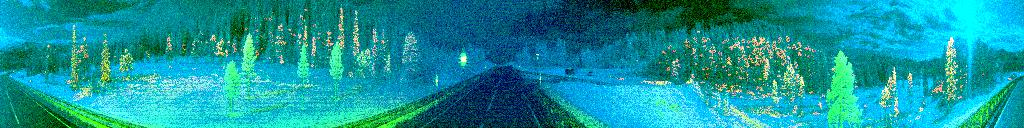pole: (434, 68, 439, 97), (538, 68, 543, 88)
